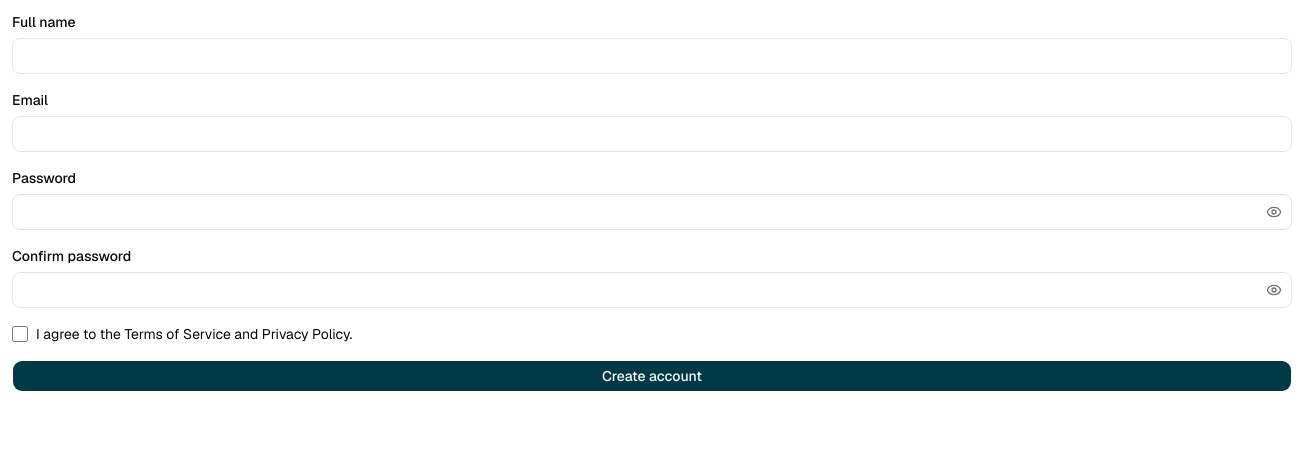
Test: RegisterForm › shows the password mismatch error even when the terms checkbox is also unchecked
The image size is (1304, 452).
Type "Ama Boateng" into the field labelled "Full name" at coordinates (652, 56), box x1=12 y1=38 x2=1292 y2=74
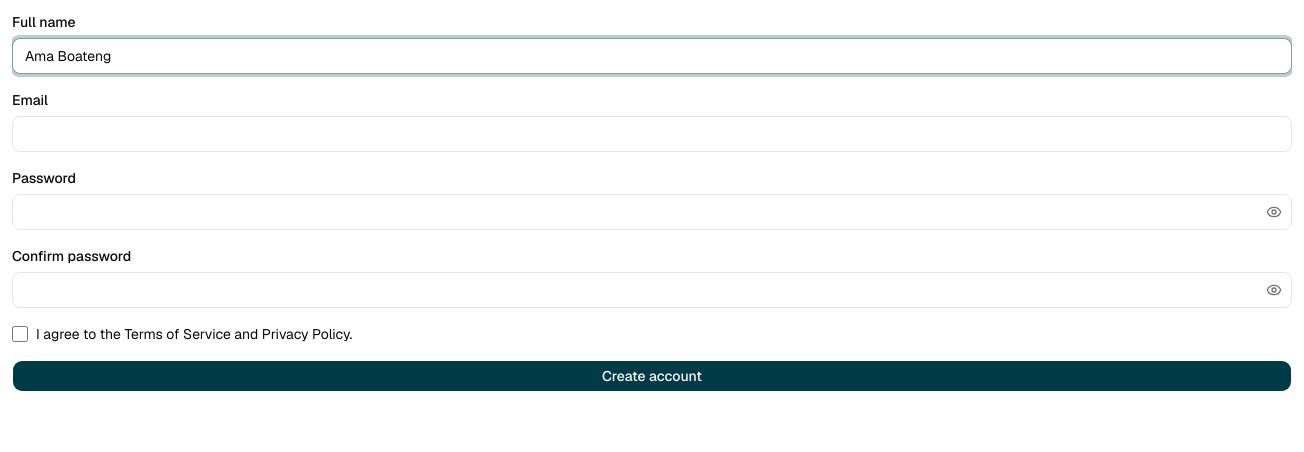
Type "ama@example.com" into the field labelled "Email" at coordinates (652, 134), box x1=12 y1=116 x2=1292 y2=152
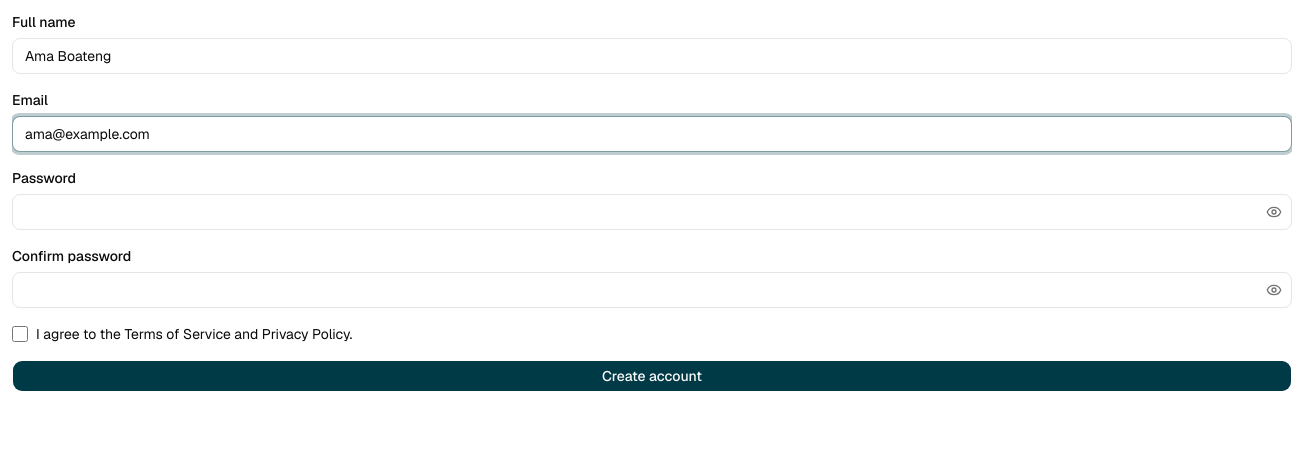
Type "Password123" into the password field labelled "Password" at coordinates (652, 212), box x1=12 y1=194 x2=1292 y2=230
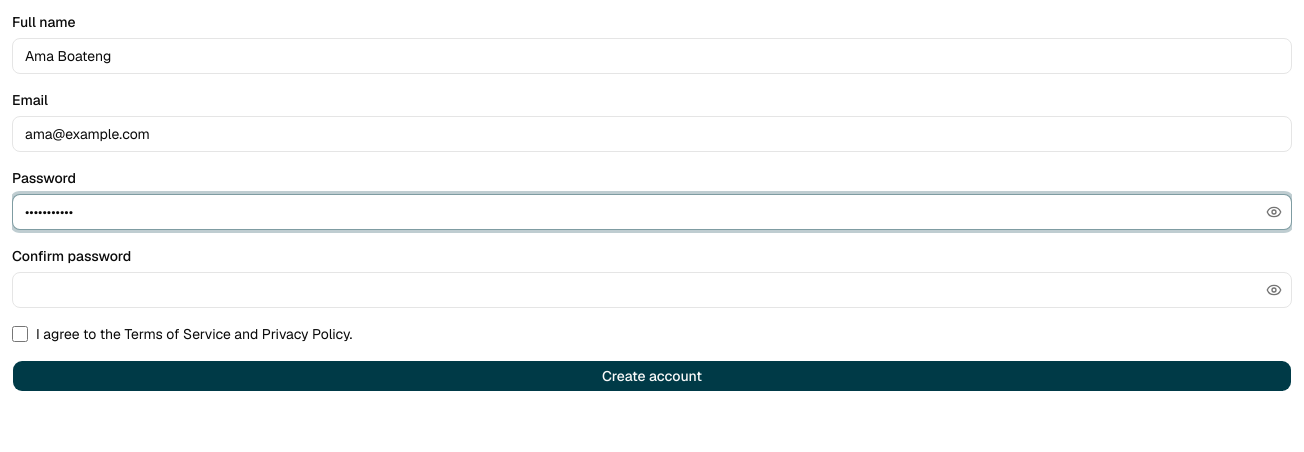
Type "Different123" into the password field labelled "Confirm password" at coordinates (652, 290), box x1=12 y1=272 x2=1292 y2=308
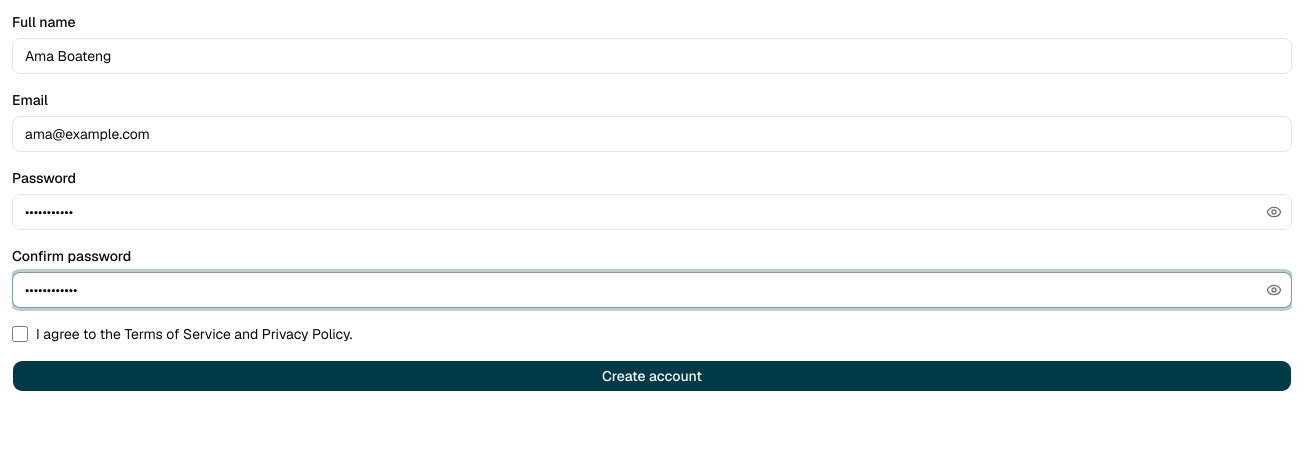
Deliberately leave the terms checkbox unchecked.
Click the button "Create account" at coordinates (652, 376), box x1=12 y1=360 x2=1292 y2=392
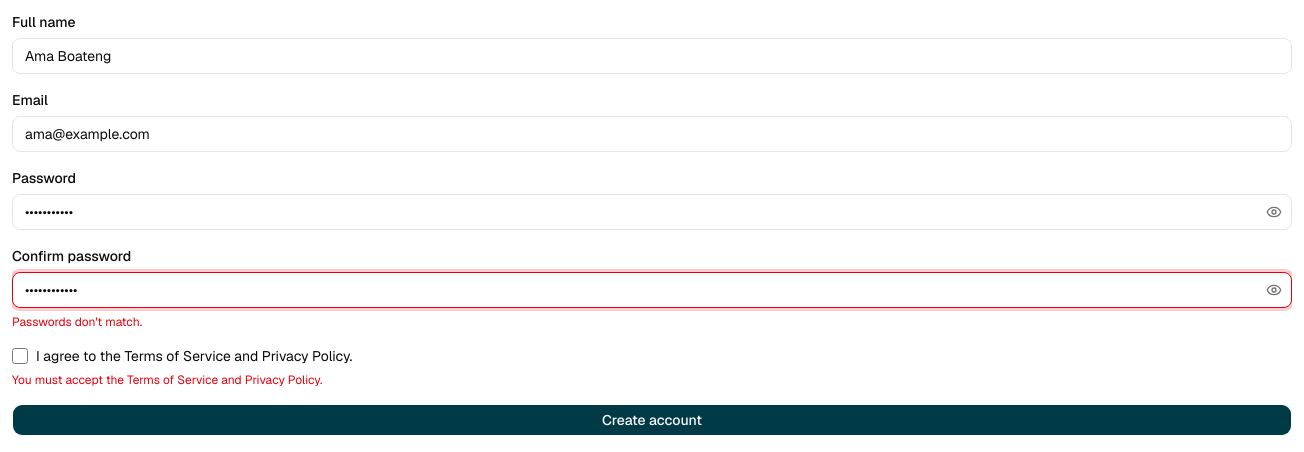
Now the text "Passwords don't match." is shown, box x1=12 y1=314 x2=142 y2=330
Now the text "You must accept the Terms of Service and Privacy Policy." is shown, box x1=12 y1=372 x2=322 y2=388
